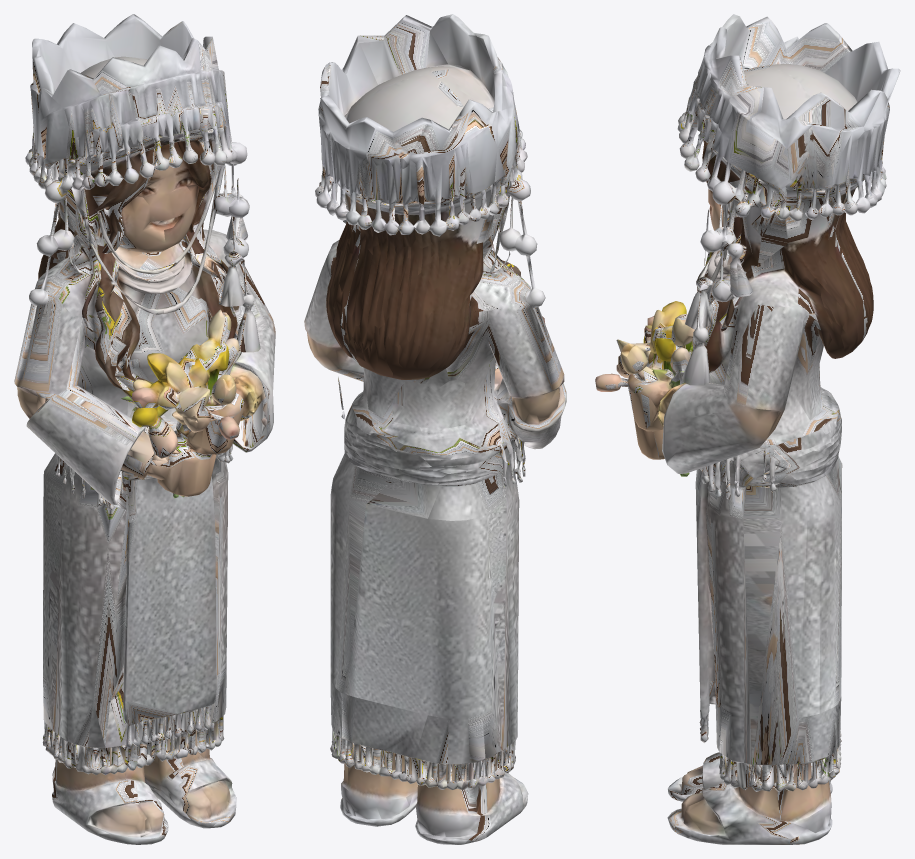
The model's file is nina_lod.glb.
3 views of the same model, side by side, from view 1: azimuth 30°, elevation 25°; view 2: azimuth 150°, elevation 25°; view 3: azimuth 270°, elevation 25° (orthographic).
Parts seen in each view (by area): view 1: model; view 2: model; view 3: model.
Boxes of the visible parts, <box> form: model: <box>14,14,275,844</box>; model: <box>304,14,566,844</box>; model: <box>595,14,900,844</box>.
Size of the model in its own units: 0.6424 by 1.9 by 0.67.
1 material, 1 textured.
